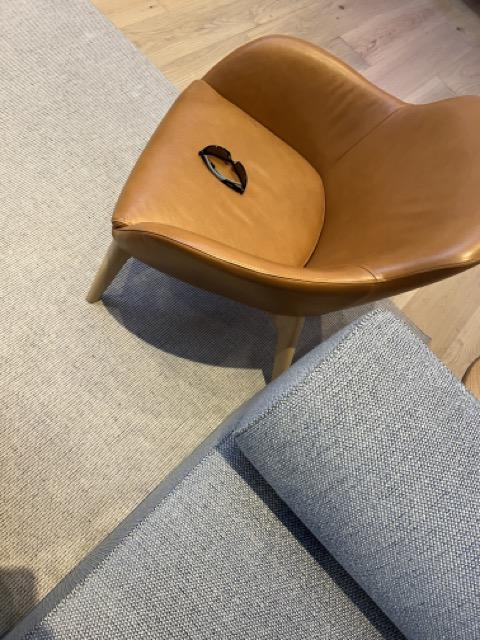Sunglasses: (197, 143, 249, 198)
